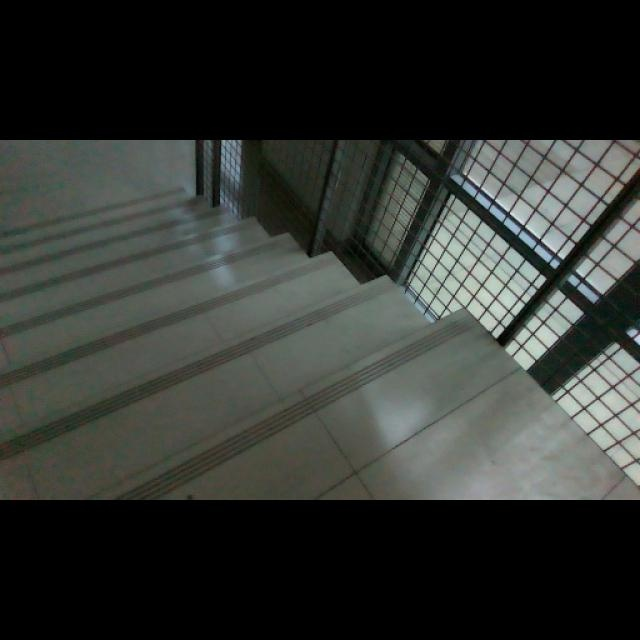stair: (0, 185, 529, 495)
